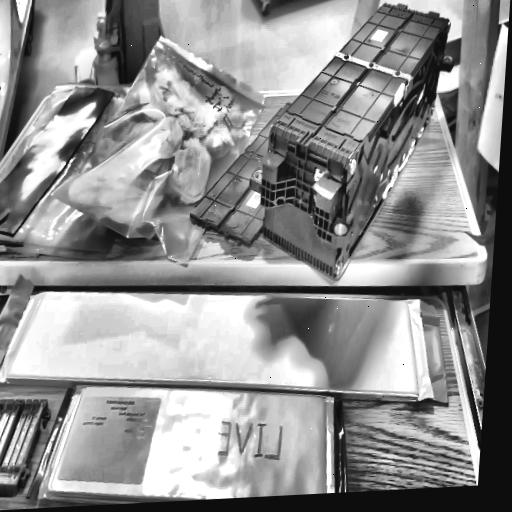battery_module: (255, 0, 454, 288)
